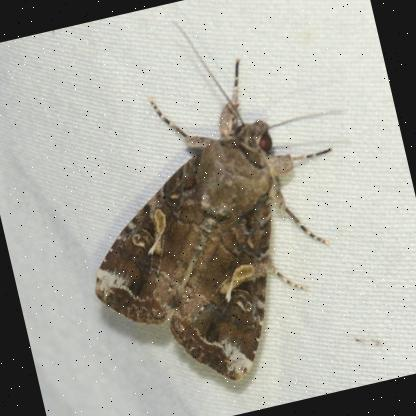Fall Armyworm Moth: (35, 0, 402, 414)
